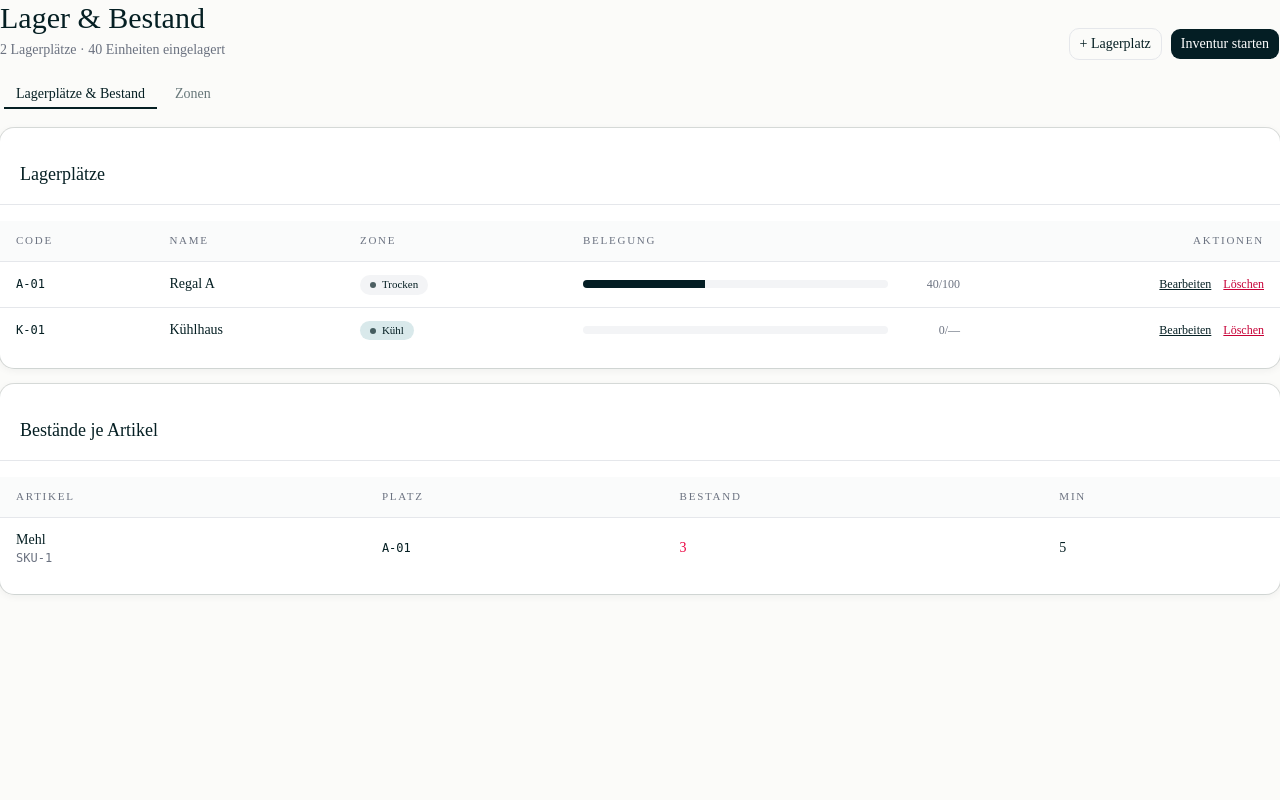
StockView: Lagerplatz-Dialog › mobil als Bottom-Sheet (ResponsiveDialog)
The width and height of the screenshot is (1280, 800).
Click the button "+ Lagerplatz" at (1115, 44), box [1068, 28, 1162, 60]
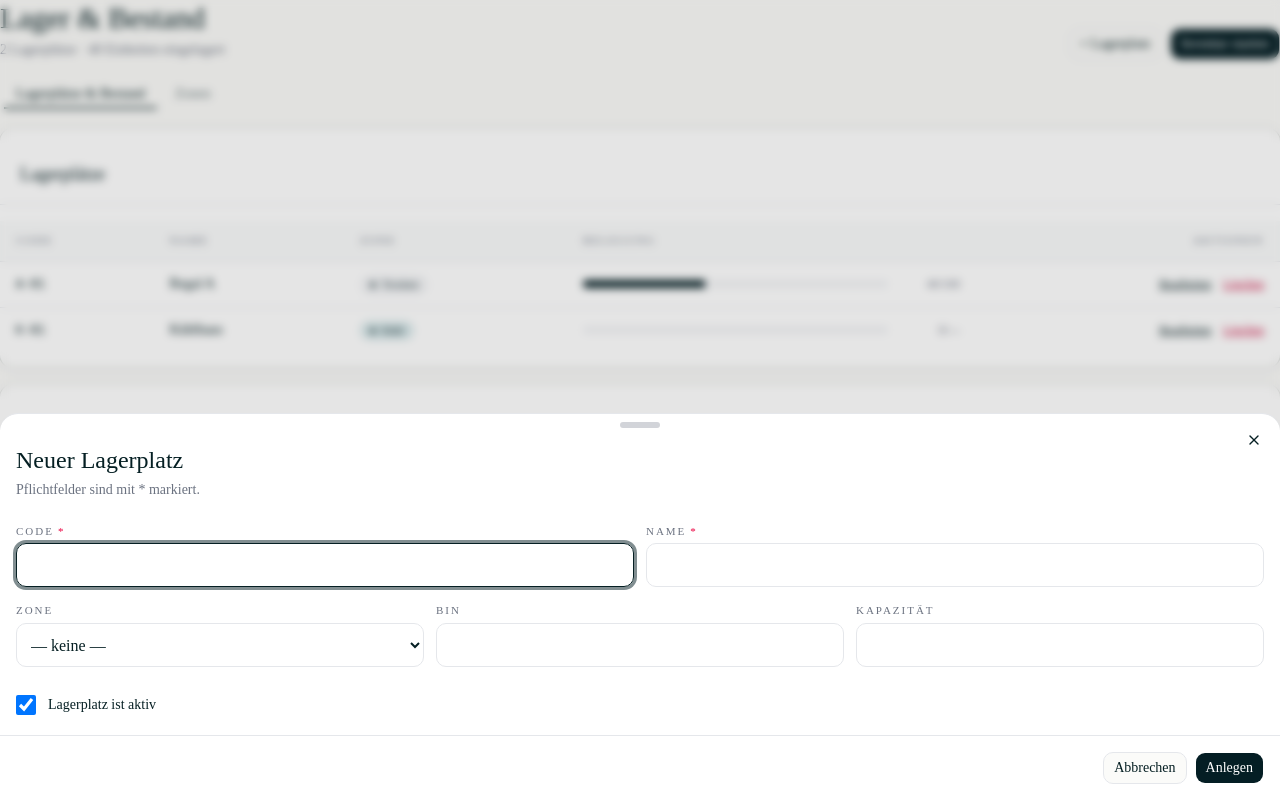
Check: the element showing "Abbrechen Anlegen" is shown, box [0, 735, 1279, 799]
